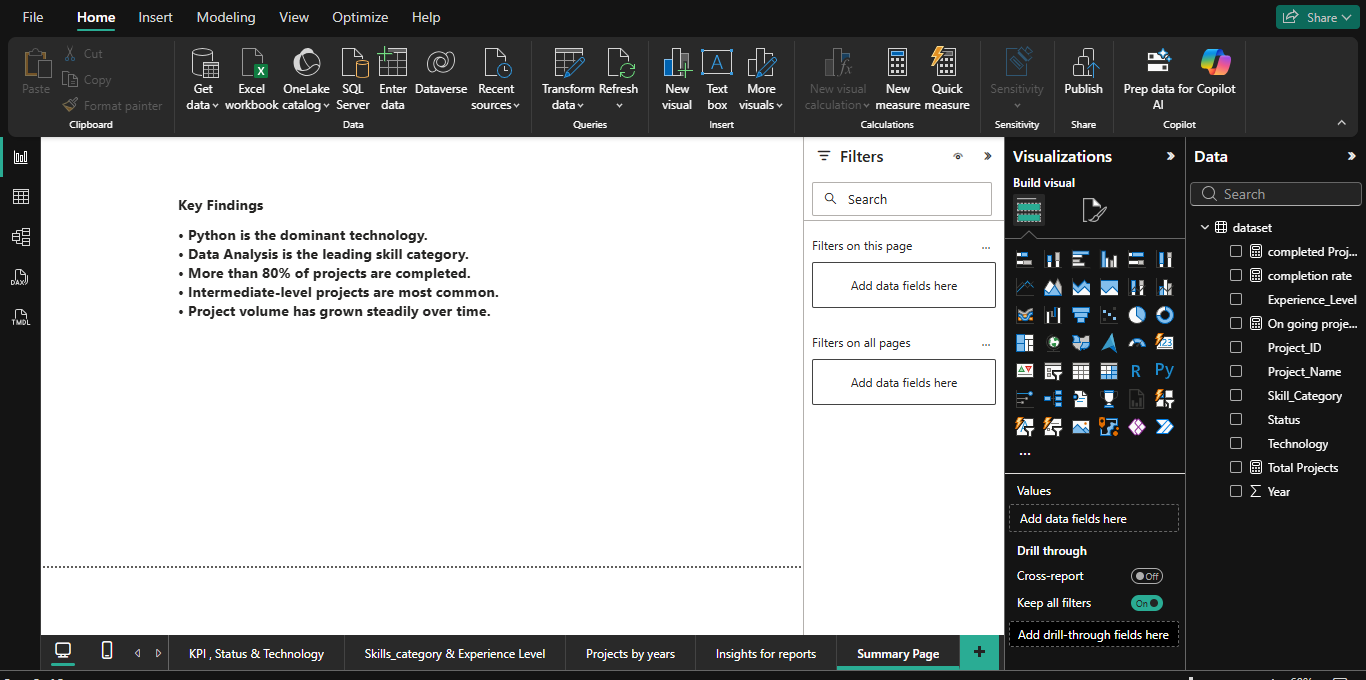

The dashboard page shown, as its layout file describes it:
{"tool":"powerbi","page":{"name":"Insights for reports","canvas":[1280,720],"ordinal":3},"visuals":[{"type":"textbox","box":[21.8,43.7,356.1,199.9],"z":0},{"type":"textbox","box":[21.8,277.2,356.1,191.5],"z":1},{"type":"textbox","box":[22,512,356,208],"z":2},{"type":"textbox","box":[388,44,356,200],"z":3},{"type":"textbox","box":[388,277,356,191],"z":4},{"type":"textbox","box":[388,512,356,208],"z":5},{"type":"textbox","box":[754,44,356,200],"z":6}]}

Visuals, with their boxes on the page's 1280x720 design canvas (x1, y1, x2, y2). These are canvas units, not pixel positions in the 1366x680 screenshot, which may show the page scaled, cropped or inside an application window:
textbox: {"x1": 22, "y1": 44, "x2": 378, "y2": 244}
textbox: {"x1": 22, "y1": 277, "x2": 378, "y2": 469}
textbox: {"x1": 22, "y1": 512, "x2": 378, "y2": 720}
textbox: {"x1": 388, "y1": 44, "x2": 744, "y2": 244}
textbox: {"x1": 388, "y1": 277, "x2": 744, "y2": 468}
textbox: {"x1": 388, "y1": 512, "x2": 744, "y2": 720}
textbox: {"x1": 754, "y1": 44, "x2": 1110, "y2": 244}
